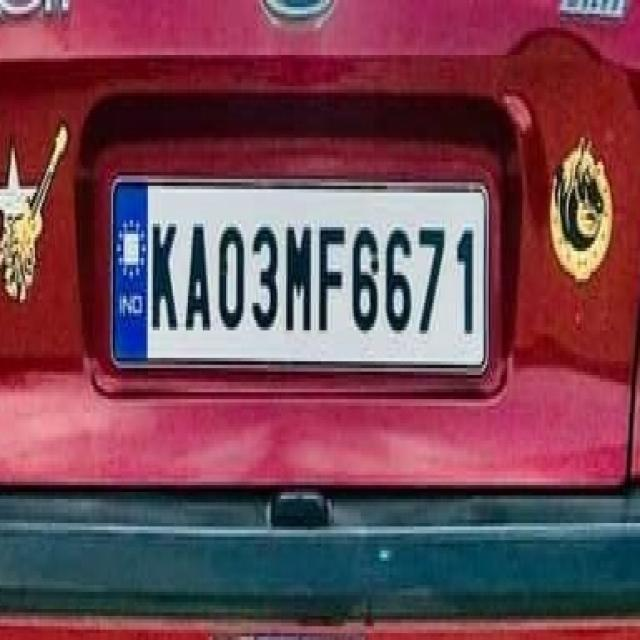0: (212, 215, 248, 333)
1: (454, 214, 479, 340)
3: (250, 218, 282, 340)
6: (382, 220, 414, 332), (350, 221, 381, 335)
7: (416, 210, 450, 338)
A: (180, 208, 214, 338)
F: (315, 198, 348, 340)
K: (148, 206, 182, 336)
M: (282, 220, 314, 338)
